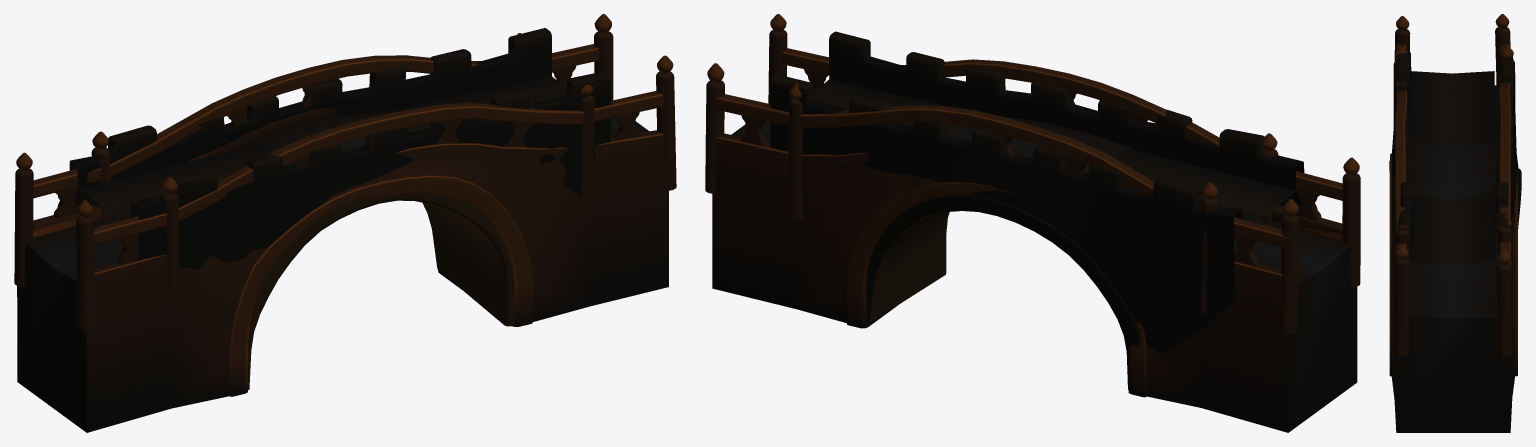
The model's file is ModBridge01.fbx.
3 views of the same model, side by side, from view 1: azimuth 30°, elevation 25°; view 2: azimuth 150°, elevation 25°; view 3: azimuth 270°, elevation 25° (orthographic). The views are drawn at different scales.
Parts seen in each view (by area): view 1: ModBridge02, ModBridge01; view 2: ModBridge02, ModBridge01; view 3: ModBridge02, ModBridge01.
Part boxes in pixels (left/top/right/bottom): ModBridge02: left=14, top=14, right=676, bottom=432; ModBridge01: left=69, top=28, right=610, bottom=389; ModBridge02: left=705, top=14, right=1360, bottom=432; ModBridge01: left=770, top=31, right=1304, bottom=389; ModBridge02: left=1389, top=14, right=1517, bottom=432; ModBridge01: left=1389, top=50, right=1521, bottom=264.
Bounding box in the file's own units: 11.22 × 4.37 × 2.63.
